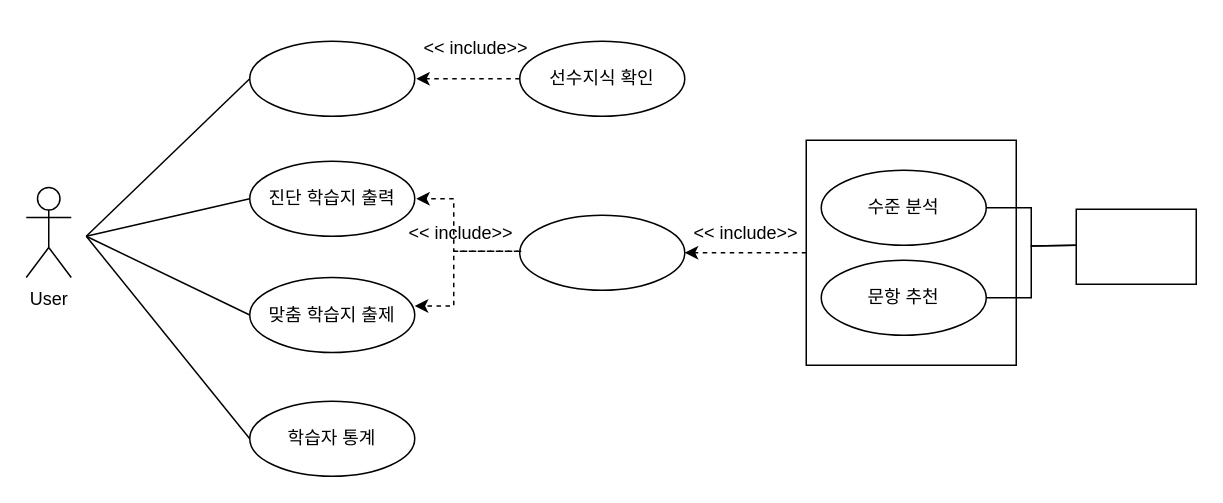
The diagram is 1223 pixels wide and 503 high, and some of its shapes have lost their labels. Each missing label, with the centre of its shape:
"단위개념 검색" goes at (331,78).
"정오답 입력" goes at (601,252).
"정오답 확률 예측 AI" goes at (1135,246).
